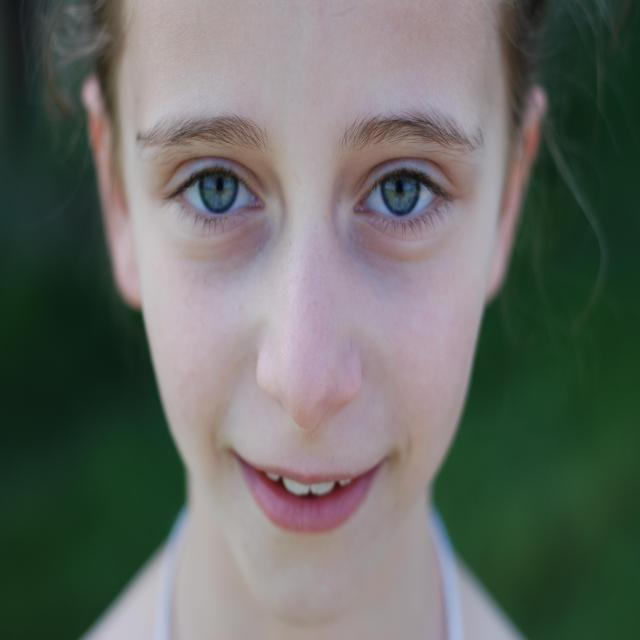no-glass: (160, 151, 456, 231)
